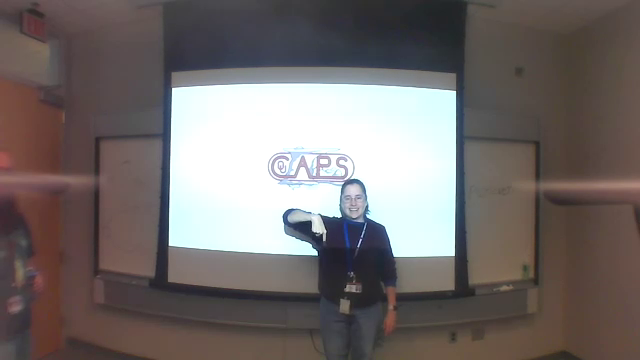down: (307, 210, 328, 248)
